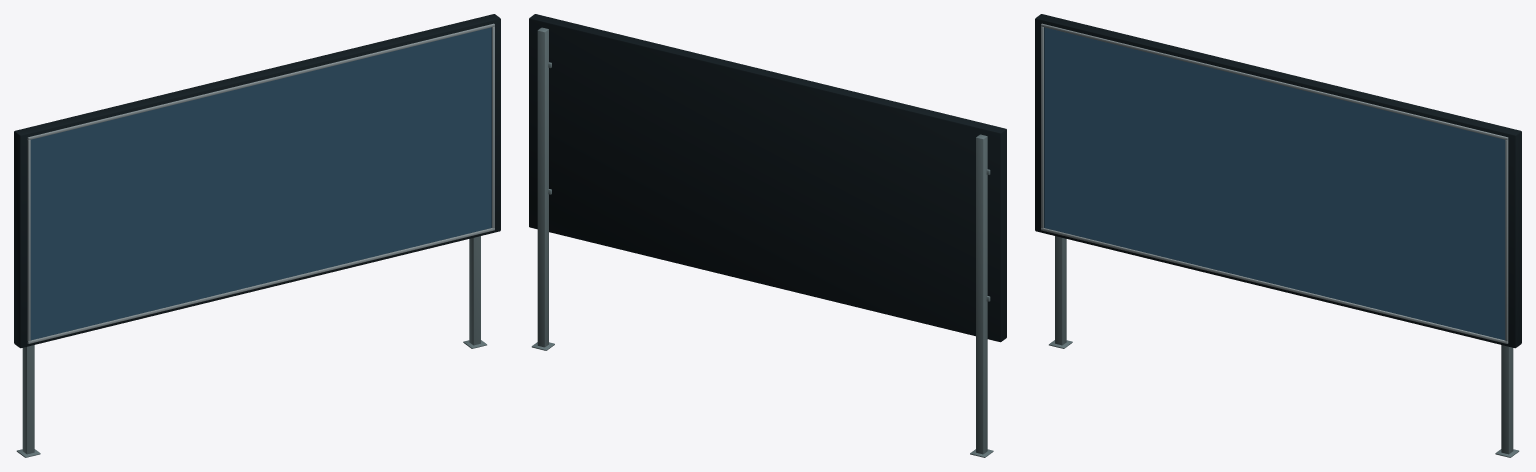
File: departures-board.glb
3 renders of one model, left to right at view 1: azimuth 30°, elevation 25°; view 2: azimuth 150°, elevation 25°; view 3: azimuth 330°, elevation 25°, orthographic.
Parts seen in each view (by area): view 1: screen, housing, trim_top, trim_bottom, post_l, post_r, trim_left, trim_right; view 2: housing, post_r, post_l; view 3: screen, housing, trim_top, trim_bottom, post_r, post_l, trim_right, trim_left.
Part boxes in pixels (bbox=[...]): screen: bbox=[30, 27, 491, 340]; housing: bbox=[14, 14, 500, 348]; trim_top: bbox=[27, 23, 494, 140]; trim_bottom: bbox=[27, 228, 494, 343]; post_l: bbox=[22, 345, 34, 454]; post_r: bbox=[469, 236, 480, 345]; trim_left: bbox=[27, 140, 30, 341]; trim_right: bbox=[492, 26, 494, 228]; housing: bbox=[529, 14, 1006, 342]; post_r: bbox=[537, 27, 548, 347]; post_l: bbox=[976, 134, 987, 454]; screen: bbox=[1044, 27, 1505, 340]; housing: bbox=[1035, 14, 1521, 348]; trim_top: bbox=[1041, 23, 1508, 140]; trim_bottom: bbox=[1041, 228, 1508, 343]; post_r: bbox=[1501, 345, 1513, 454]; post_l: bbox=[1055, 236, 1066, 345]; trim_right: bbox=[1505, 140, 1508, 341]; trim_left: bbox=[1041, 26, 1043, 228].
Size of the model in its own units: 12.5 by 8.15 by 0.6452.
